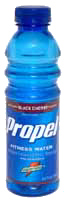grozi_56: (5, 6, 60, 196)
